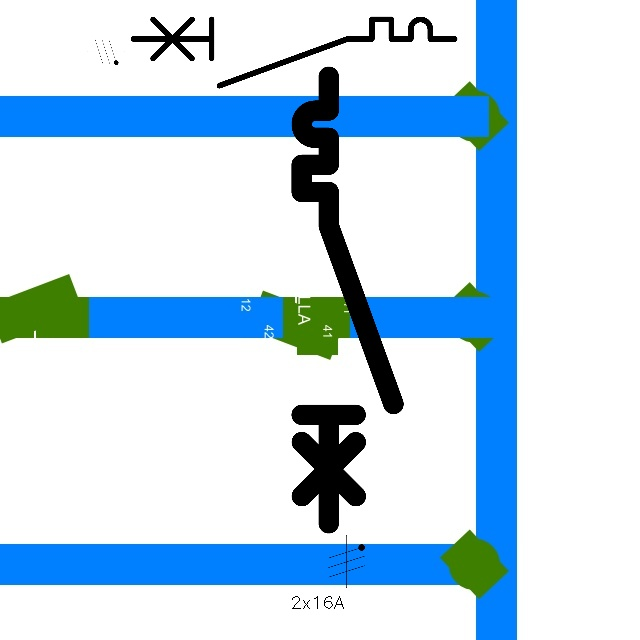interruptor_termomagnetico: (290, 65, 405, 535), (125, 11, 463, 93)
